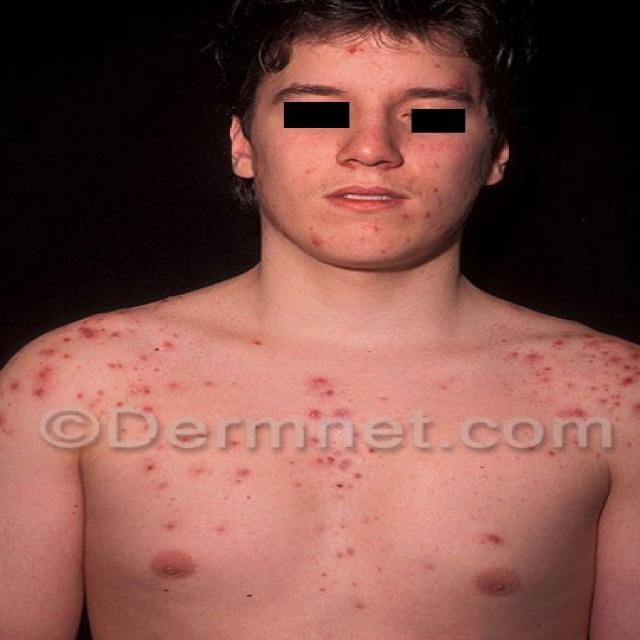Acne: (131, 453, 203, 534), (324, 543, 391, 621), (586, 336, 640, 428), (83, 358, 164, 417), (501, 335, 570, 390), (221, 455, 284, 512), (275, 380, 354, 418), (311, 452, 372, 499), (361, 226, 416, 266), (57, 317, 128, 345), (35, 352, 66, 414), (468, 523, 523, 555), (290, 227, 345, 258), (417, 183, 460, 221), (146, 328, 182, 371), (553, 404, 600, 435), (327, 37, 367, 70), (0, 397, 22, 442), (424, 59, 454, 77), (242, 584, 261, 612)
